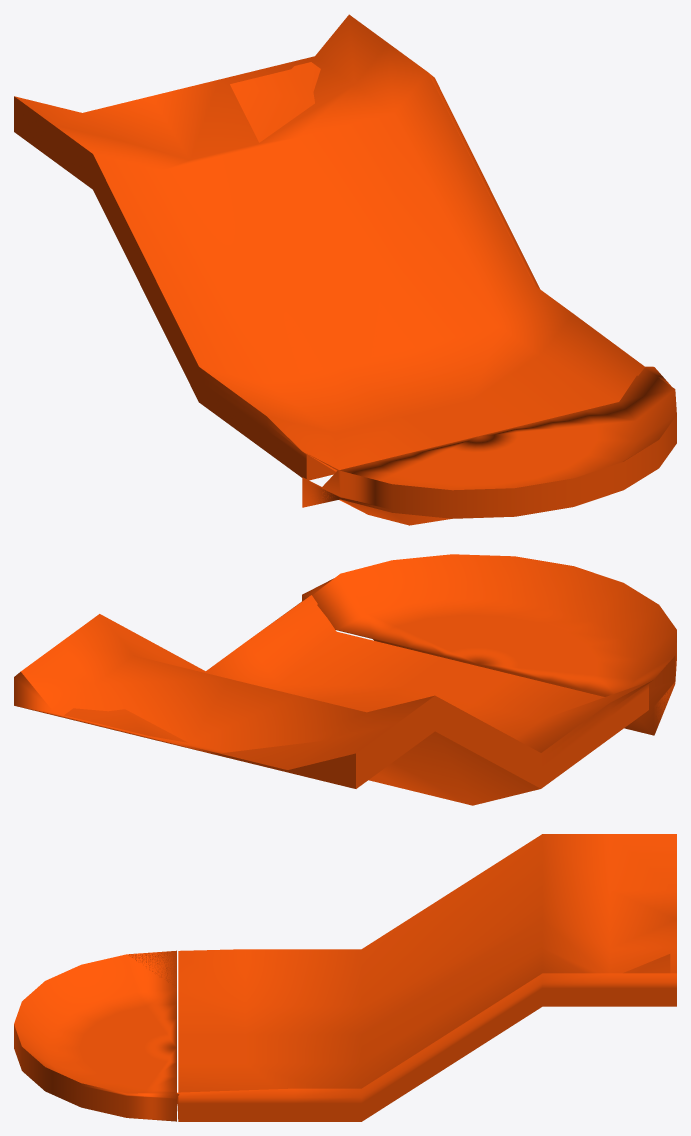
Rendered from testtrack1.obj.
3 views of the same model, one above another, from view 1: azimuth 30°, elevation 25°; view 2: azimuth 150°, elevation 25°; view 3: azimuth 270°, elevation 25° (orthographic). The views are drawn at different scales.
Parts seen in each view (by area): view 1: pCylinder2; view 2: pCylinder2; view 3: pCylinder2.
Boxes of the visible parts, <box> form: pCylinder2: <box>14,14,676,525</box>; pCylinder2: <box>14,554,676,805</box>; pCylinder2: <box>14,834,676,1121</box>.
Bounding box in the file's own units: 10.3 × 5.71 × 19.7.
